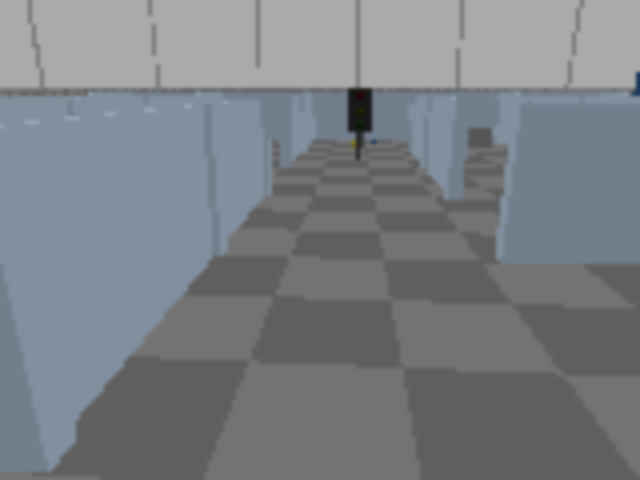person: (623, 0, 638, 186)
